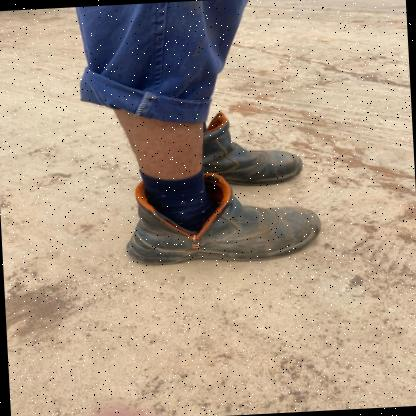bota: (116, 172, 326, 266), (193, 106, 304, 186)
